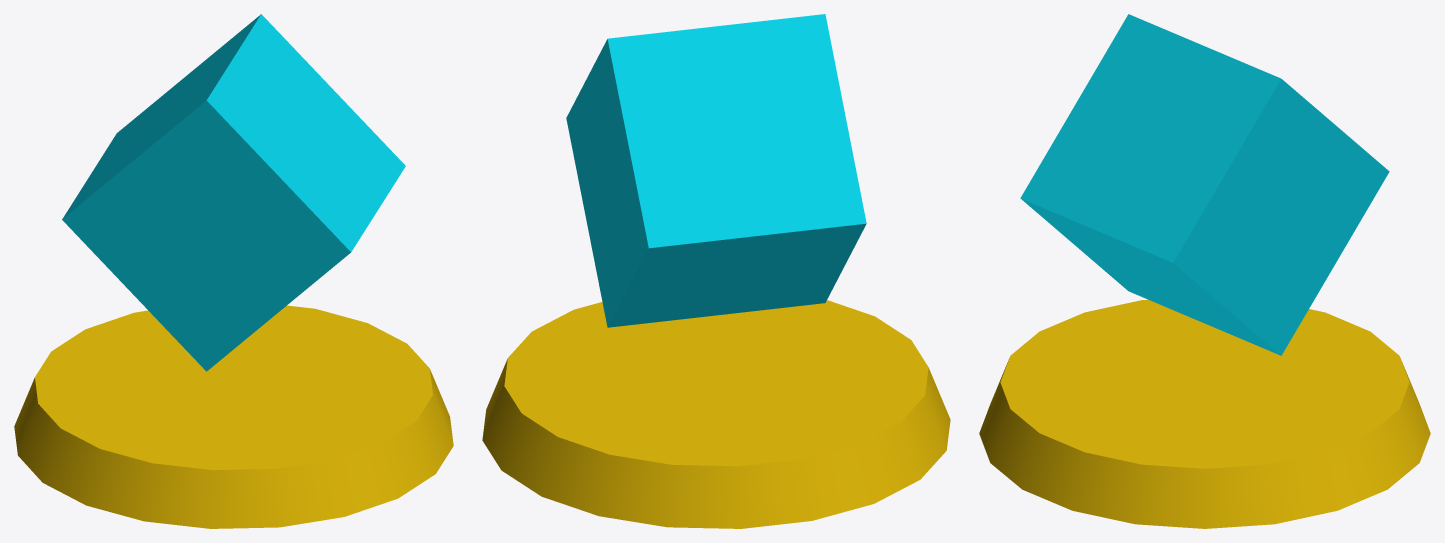
Rendered from Defult animation with lights and camera.fbx.
The picture shows the model from 3 angles, left to right: view 1: azimuth 30°, elevation 25°; view 2: azimuth 150°, elevation 25°; view 3: azimuth 270°, elevation 25°; orthographic projection. The views are drawn at different scales.
Visible parts, largest first — view 1: pCylinder1, pCube1; view 2: pCylinder1, pCube1; view 3: pCylinder1, pCube1.
Boxes of the visible parts, bbox=[...] form: pCylinder1: bbox=[14, 305, 453, 528]; pCube1: bbox=[62, 14, 405, 371]; pCylinder1: bbox=[482, 300, 950, 528]; pCube1: bbox=[566, 14, 866, 327]; pCylinder1: bbox=[979, 299, 1430, 528]; pCube1: bbox=[1020, 14, 1389, 355].
Bounding box in the file's own units: 2.76 × 2.62 × 2.76.
